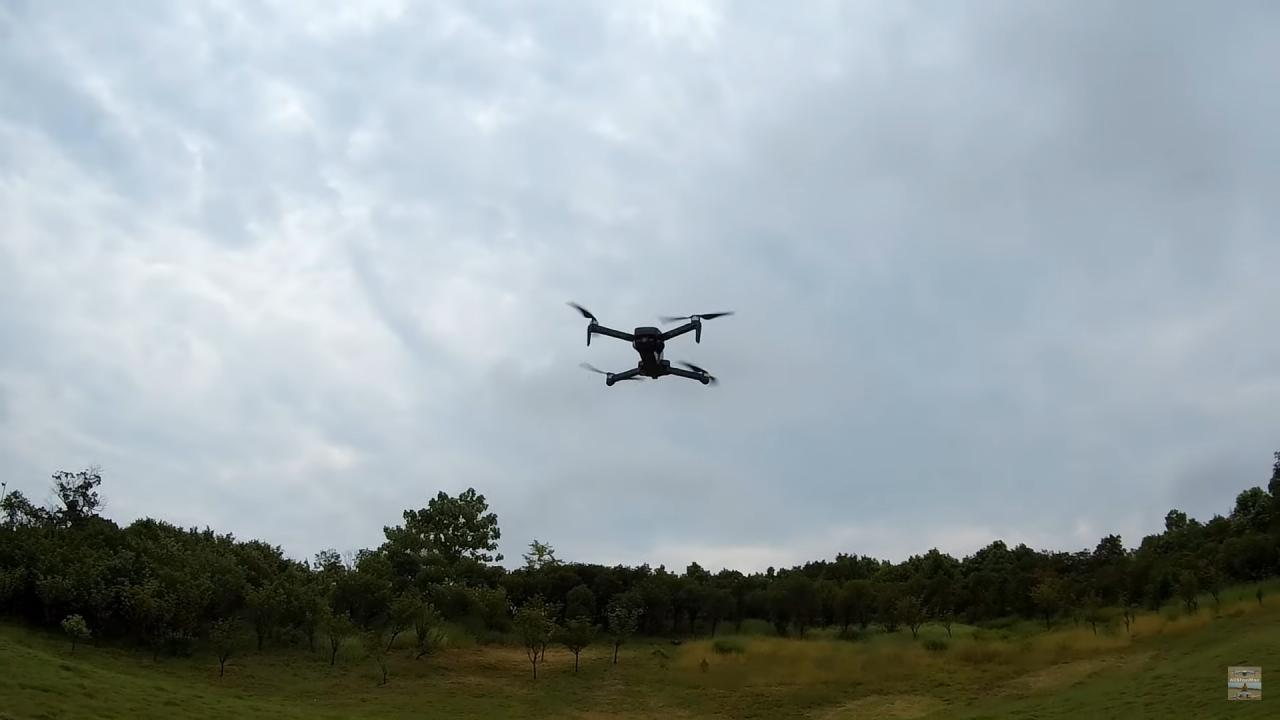Drone: (556, 286, 747, 404)
